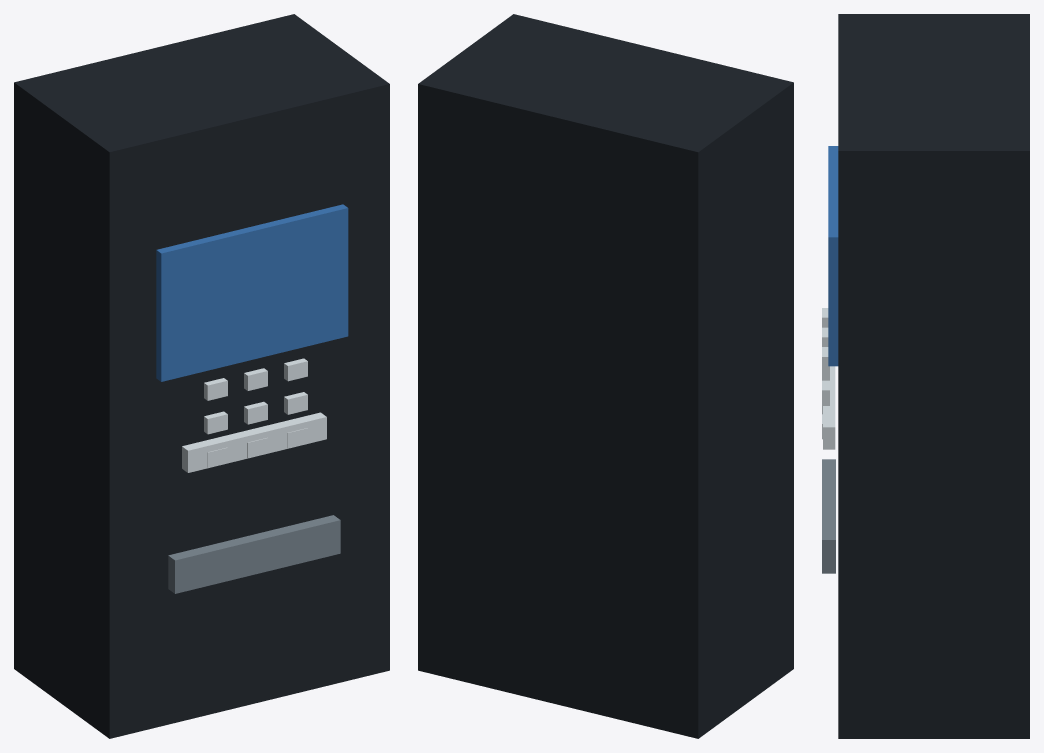
The model's file is atm.glb.
3 views of the same model, side by side, from view 1: azimuth 30°, elevation 25°; view 2: azimuth 150°, elevation 25°; view 3: azimuth 270°, elevation 25° (orthographic).
Bounding box in the file's own units: 1.05 × 2.1 × 0.6725.
